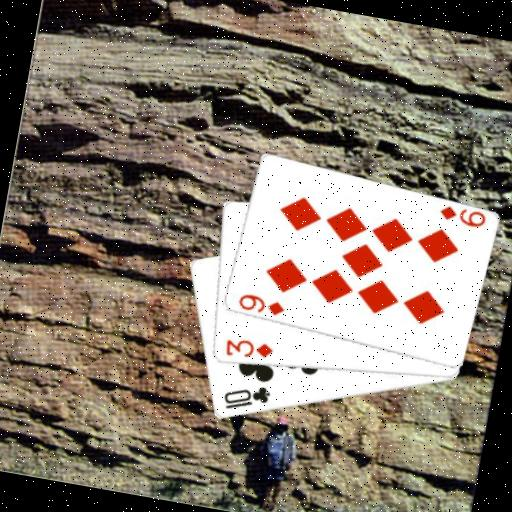10C: (218, 377, 273, 418)
3D: (220, 333, 275, 365)
9D: (233, 289, 287, 319), (434, 201, 488, 231)
